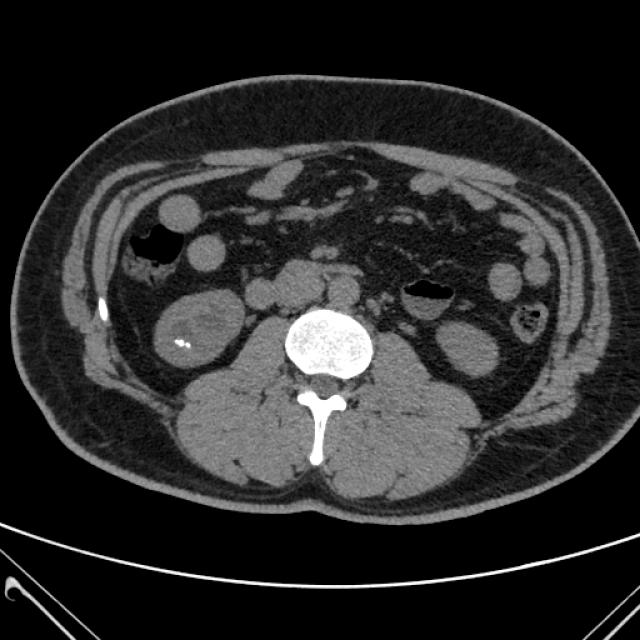kidney: (150, 282, 250, 374), (432, 312, 506, 382)
stone: (171, 332, 195, 352)
